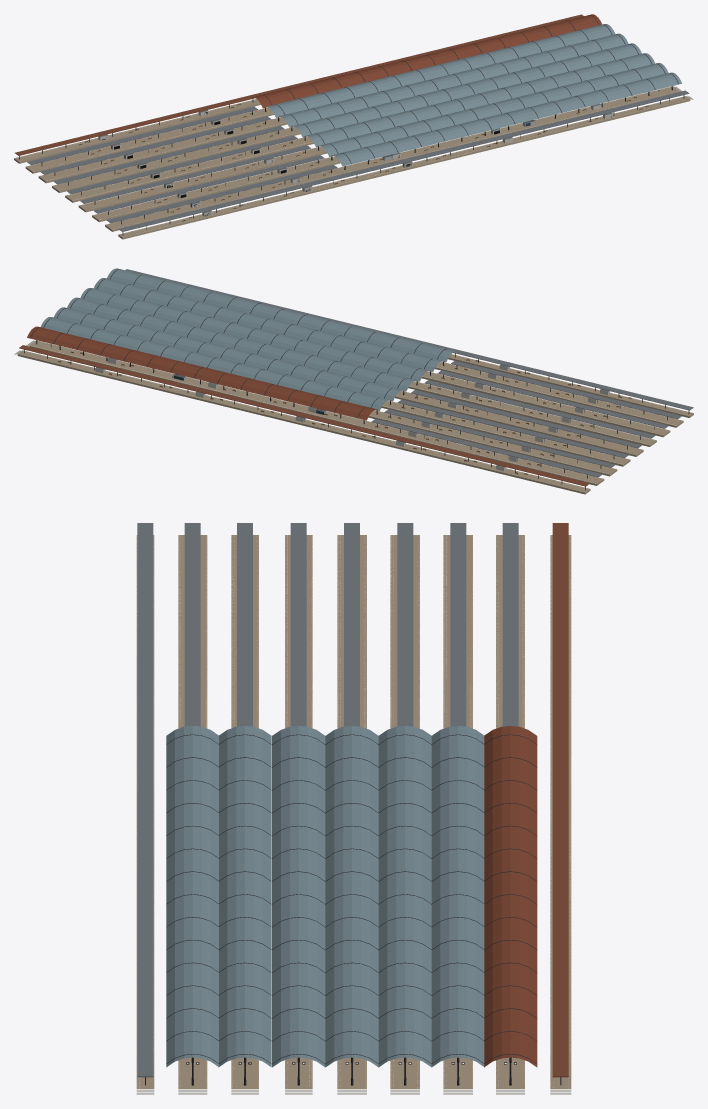
File: hb_perron.glb
3 views of the same model, one above another, from view 1: azimuth 30°, elevation 25°; view 2: azimuth 150°, elevation 25°; view 3: azimuth 270°, elevation 25° (orthographic). The views are drawn at different scales.
Parts seen in each view (by area): view 1: hb_perron; view 2: hb_perron; view 3: hb_perron.
Part boxes in pixels (<box>): hb_perron: <box>14,14,693,239</box>; hb_perron: <box>14,268,693,494</box>; hb_perron: <box>136,523,571,1094</box>.
Size of the model in its own units: 428 by 12.35 by 141.
2 materials, 2 textured.
